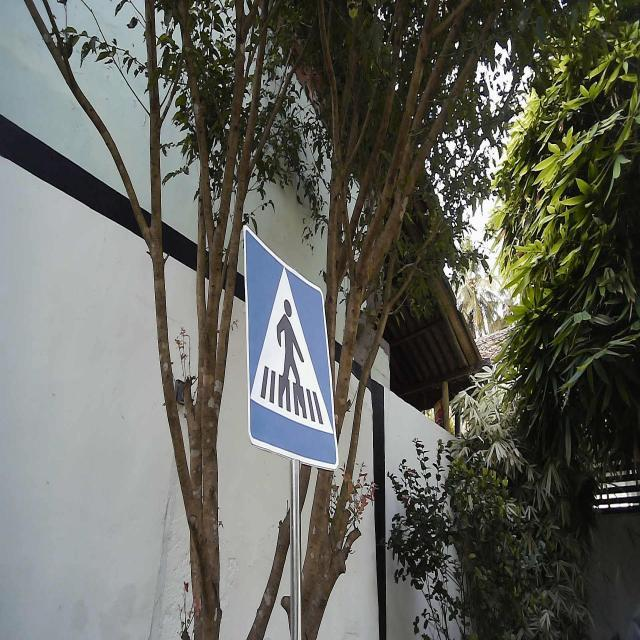crosswalk_sign: (241, 223, 341, 473)
